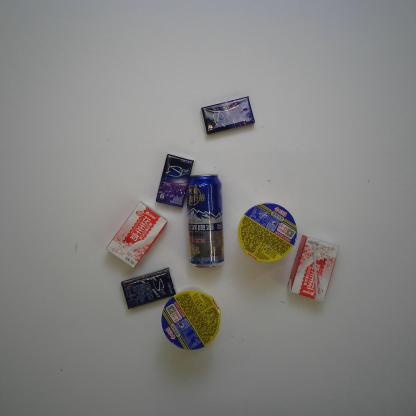Alcohol: (186, 171, 226, 270)
Gum: (152, 151, 196, 209), (121, 267, 178, 310), (199, 94, 255, 137)
Instant Noodles: (160, 288, 223, 353), (237, 201, 300, 265)
Milk: (105, 200, 169, 271), (285, 234, 342, 305)
